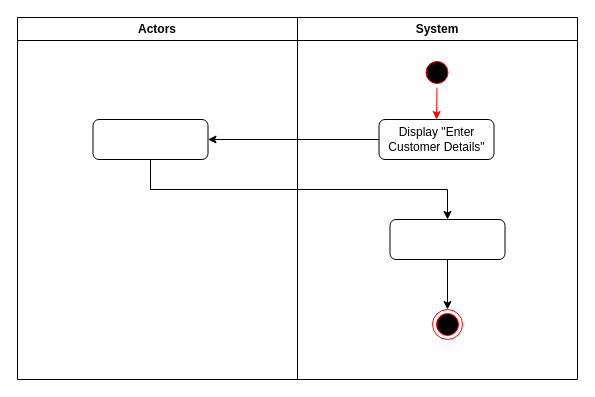
This 595x397 diagram has some shape labels left out. The box of each missing label's shape, as (x1, y1, x2, y2) in pixels:
Display "Account created successful": (389, 218, 505, 260)
Enter Customer Details: (92, 118, 208, 160)
